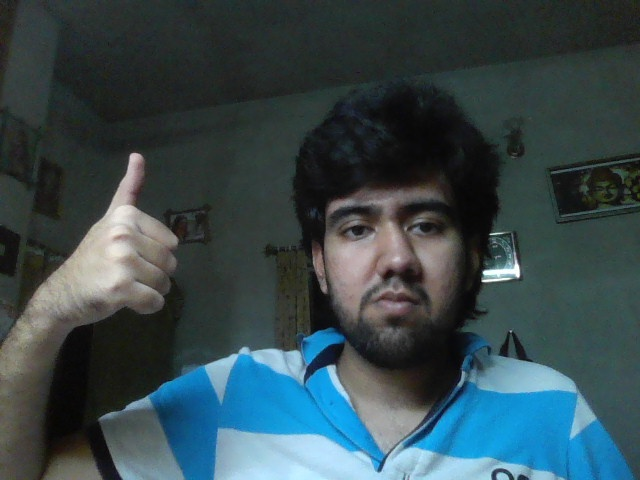Ok: (69, 152, 179, 313)
